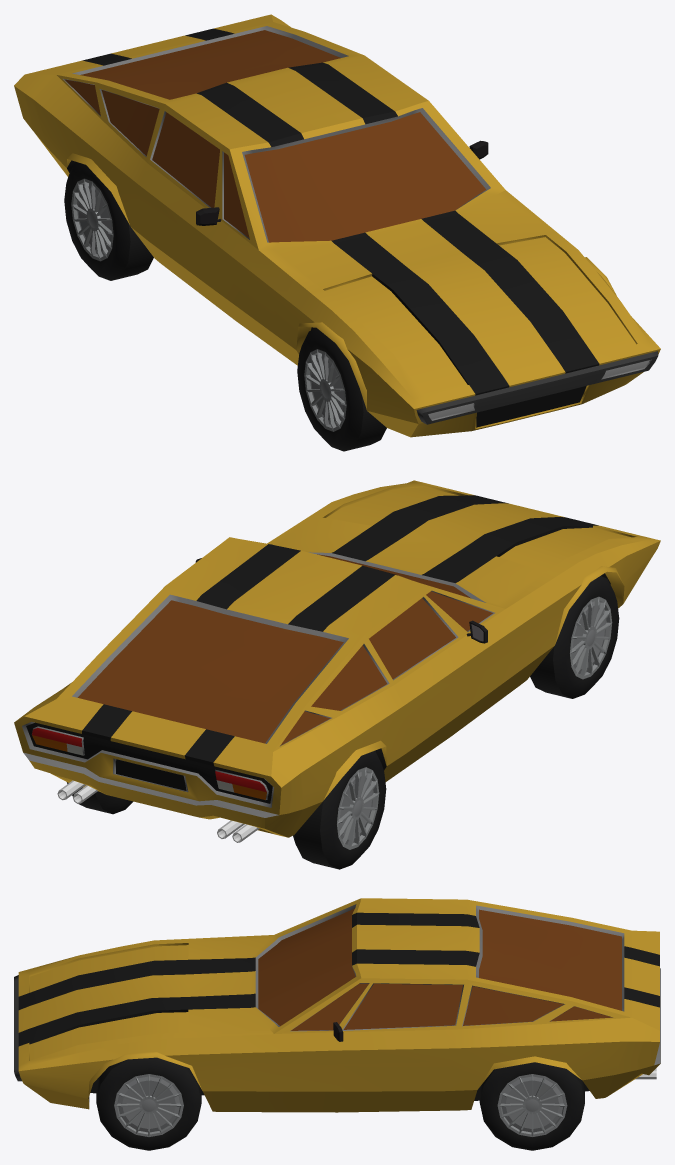
Rendered from CityObjects.fbx_PlayerCar.fbx.
3 views of the same model, one above another, from view 1: azimuth 30°, elevation 25°; view 2: azimuth 150°, elevation 25°; view 3: azimuth 270°, elevation 25° (orthographic). The views are drawn at different scales.
Visible parts, largest first — view 1: PlayerCar, TireFront.R, TireBack; view 2: PlayerCar, TireBack, TireFront.R; view 3: PlayerCar, TireFront.L, TireBack.
Boxes of the visible parts, bbox=[...] form: PlayerCar: bbox=[14, 14, 660, 437]; TireFront.R: bbox=[297, 328, 386, 451]; TireBack: bbox=[64, 161, 153, 280]; PlayerCar: bbox=[14, 480, 660, 842]; TireBack: bbox=[67, 750, 386, 869]; TireFront.R: bbox=[530, 576, 619, 698]; PlayerCar: bbox=[14, 898, 660, 1112]; TireFront.L: bbox=[96, 1057, 201, 1150]; TireBack: bbox=[479, 1062, 584, 1150].
Size of the model in its own units: 189 by 123 by 441.
